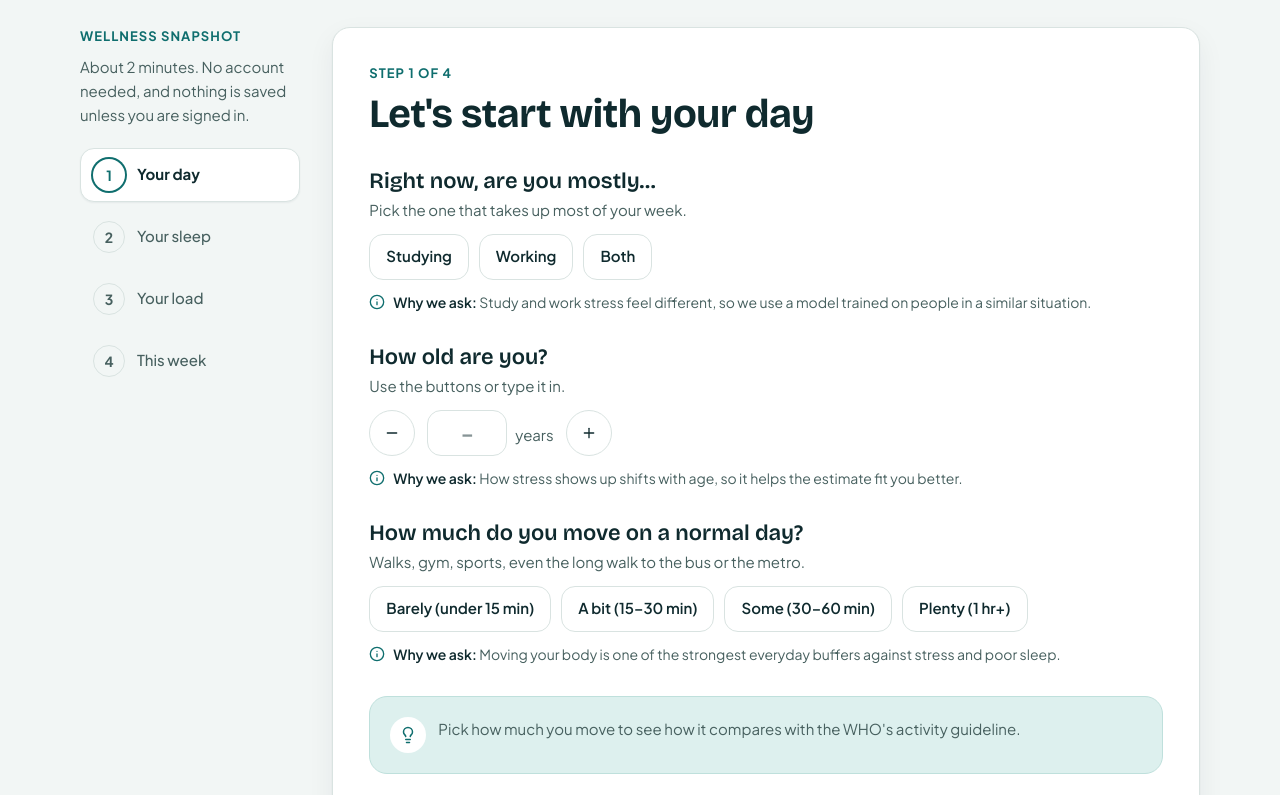
Test: questionnaire › Add it now returns to the last step with the optional answers open
The width and height of the screenshot is (1280, 795).
Later steps or results of the test are not shown.
Click the button "Working".
click(526, 256)  # box [479, 234, 573, 280]
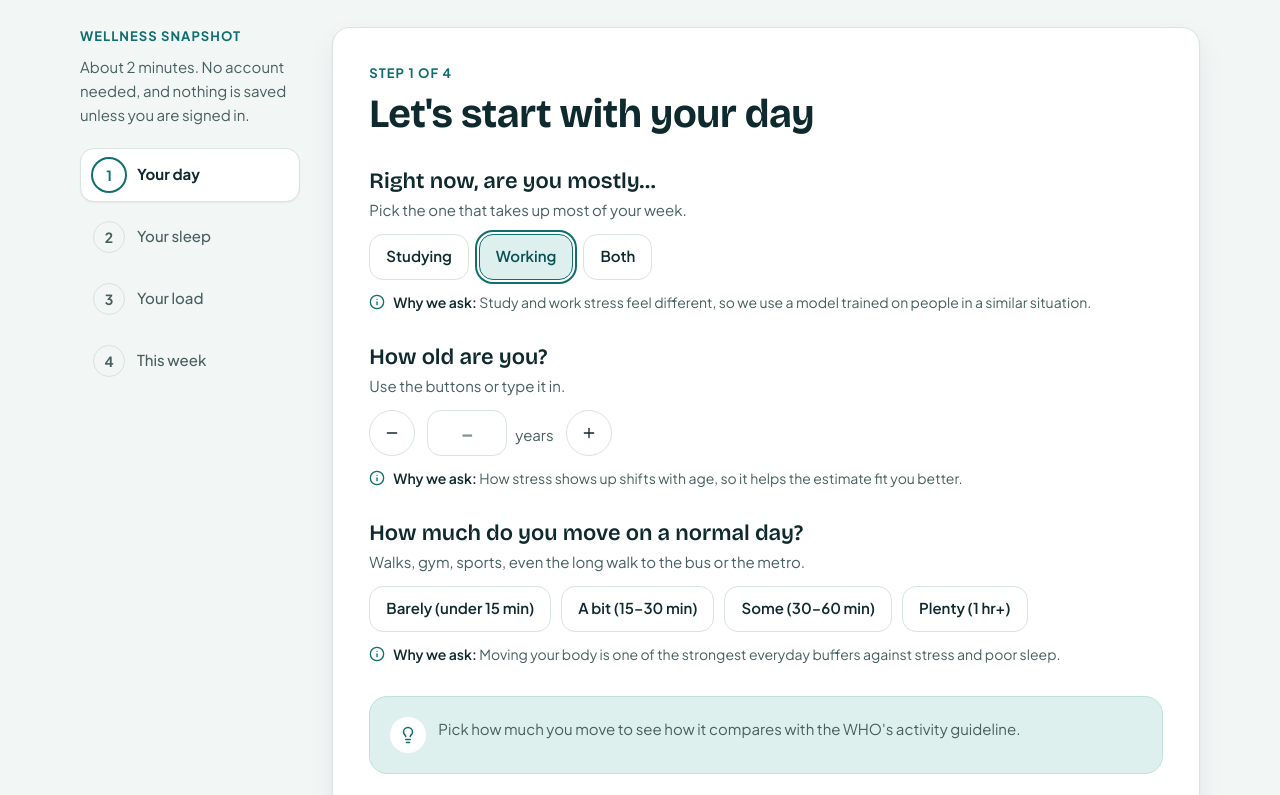
Click the button named "One year older".
click(589, 432)  # box [566, 410, 612, 456]
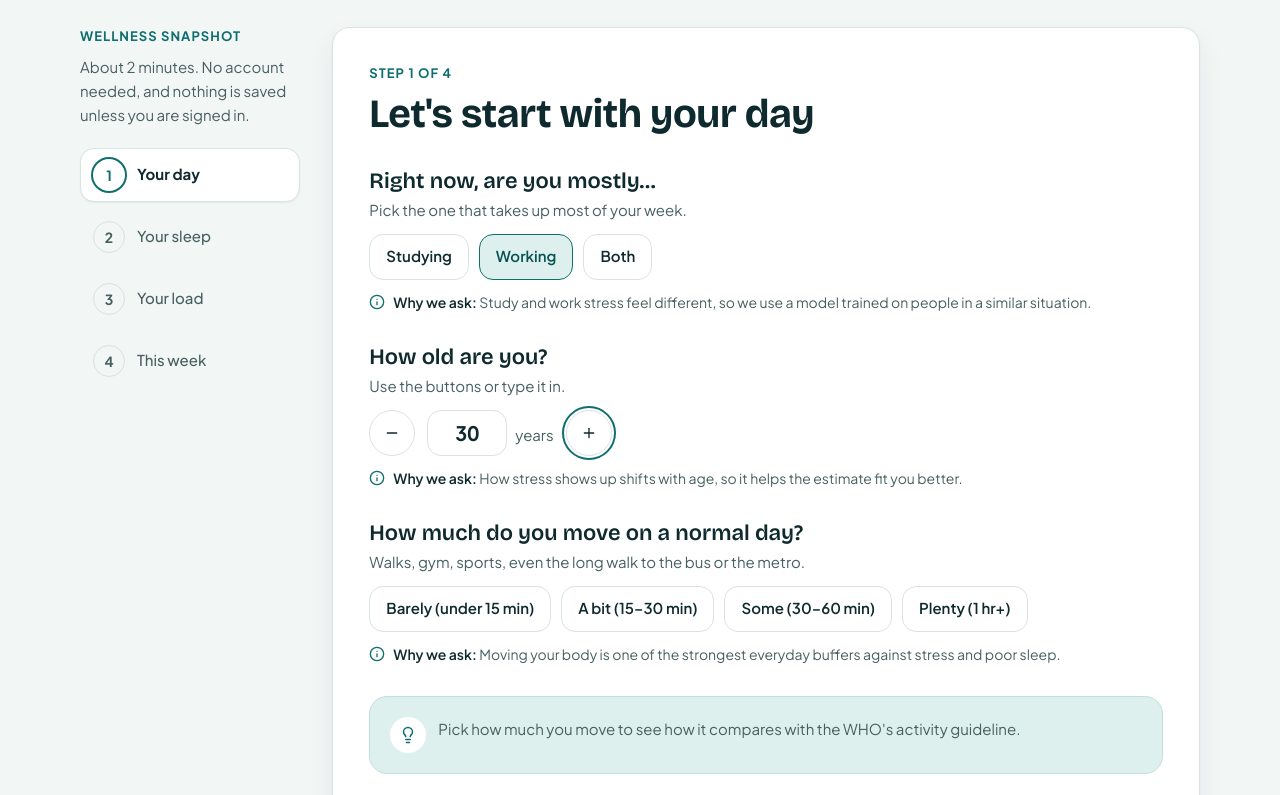
Click the button "Some (30–60 min)".
click(808, 608)  # box [724, 586, 892, 632]
(page scrolled)
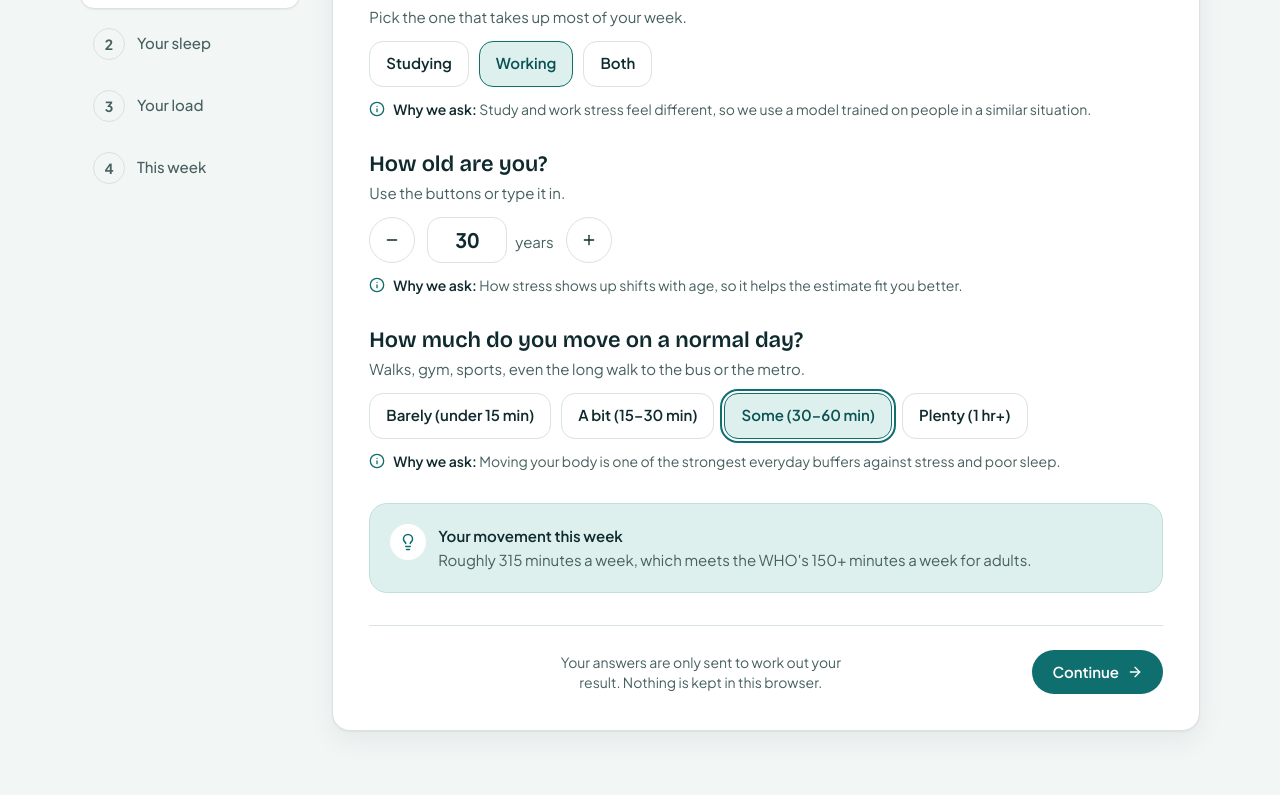
Click the button "Continue".
click(1098, 672)  # box [1032, 650, 1163, 694]
(page scrolled)
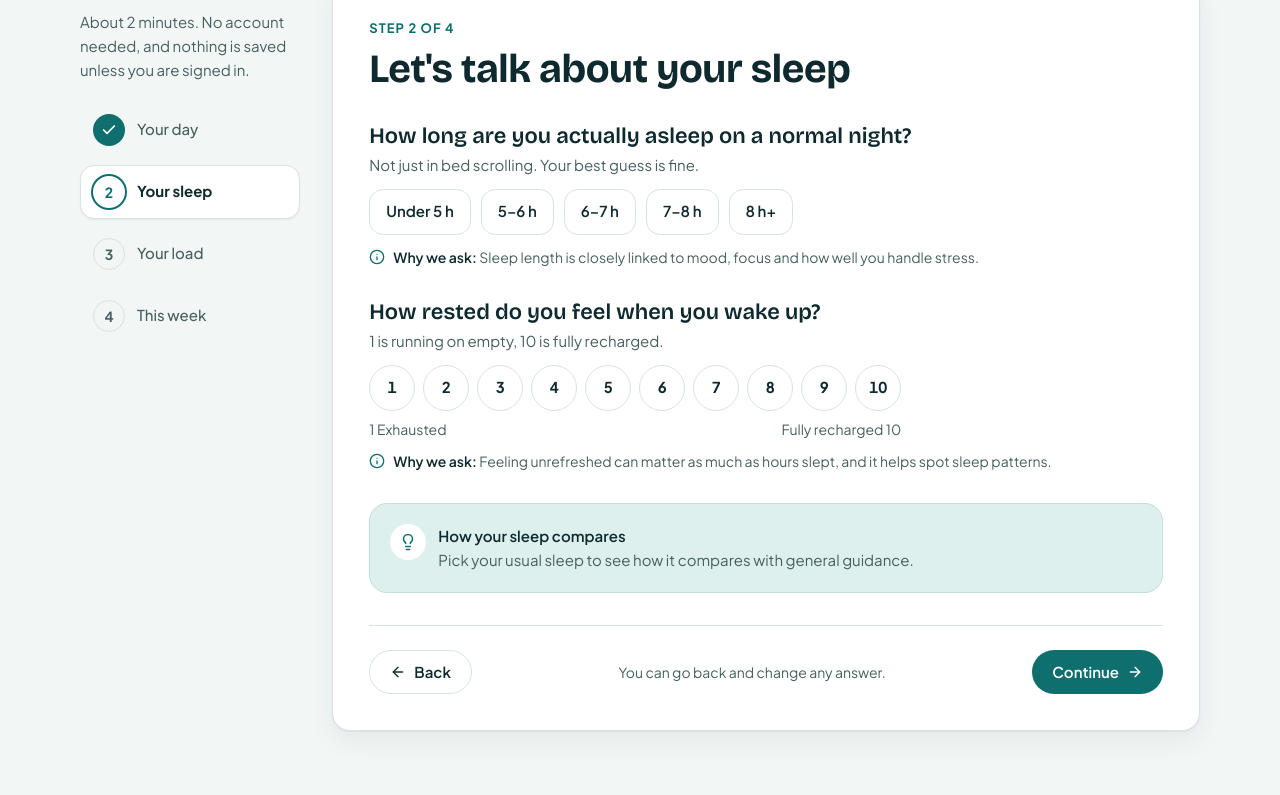
Click the button "6–7 h".
click(600, 212)  # box [564, 188, 636, 234]
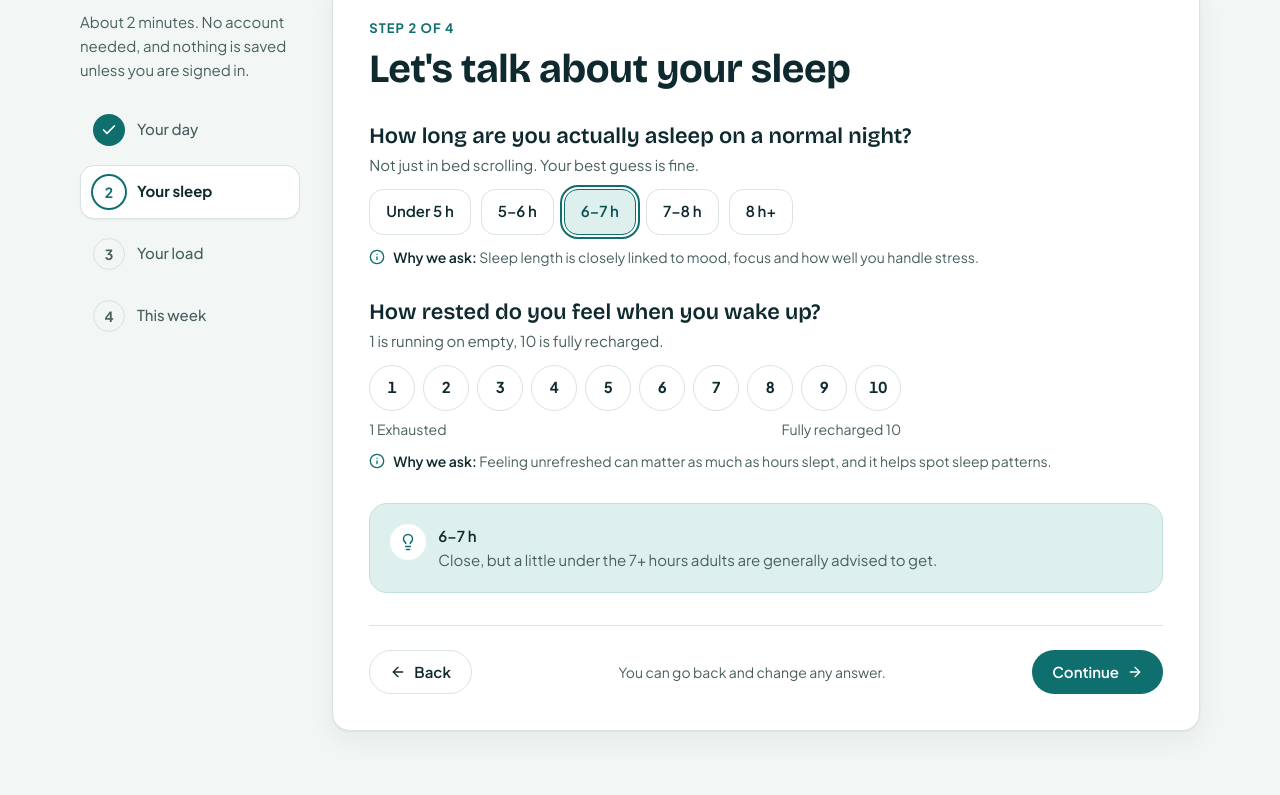
Click the button named "6 out of 10".
click(662, 388)  # box [639, 364, 685, 410]
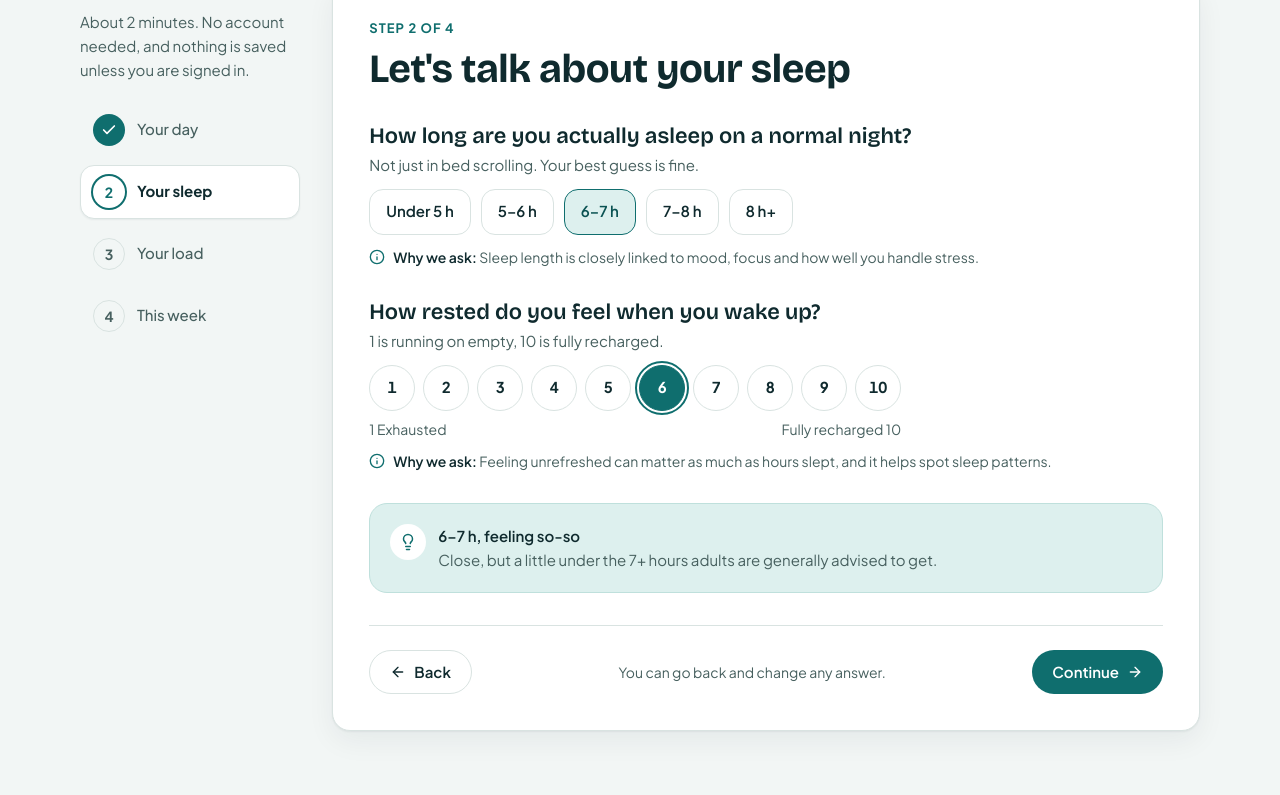
Expected: the button named "6 out of 10" is pressed, [639, 364, 685, 410]
